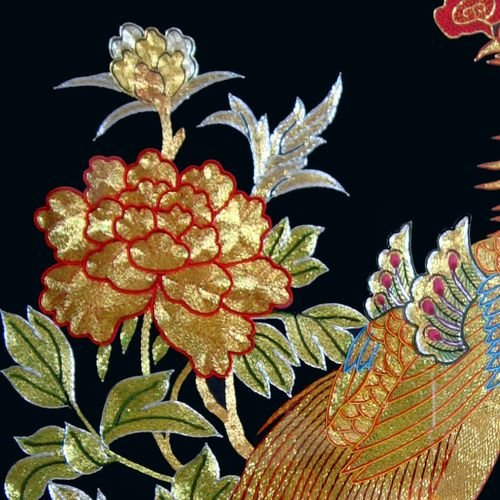flower: (31, 147, 342, 380), (103, 23, 209, 110)
phoenix: (231, 216, 500, 500)
